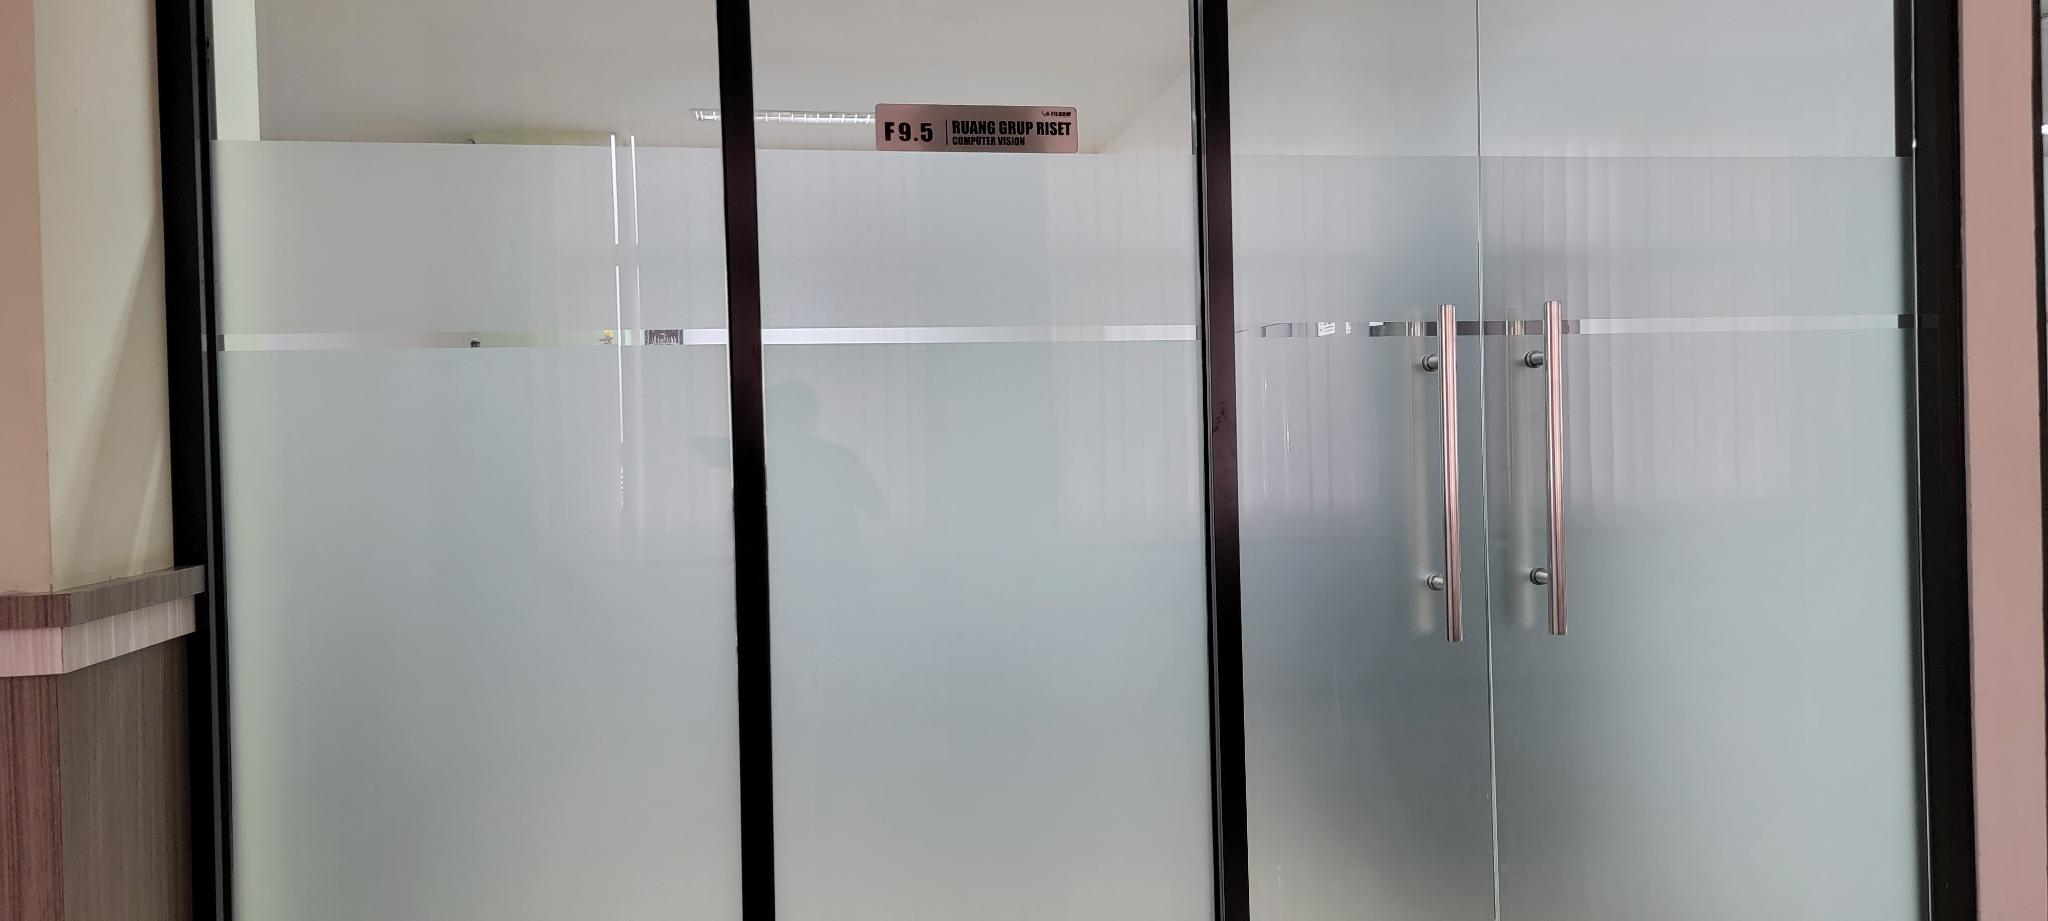plate: (875, 101, 1083, 154)
